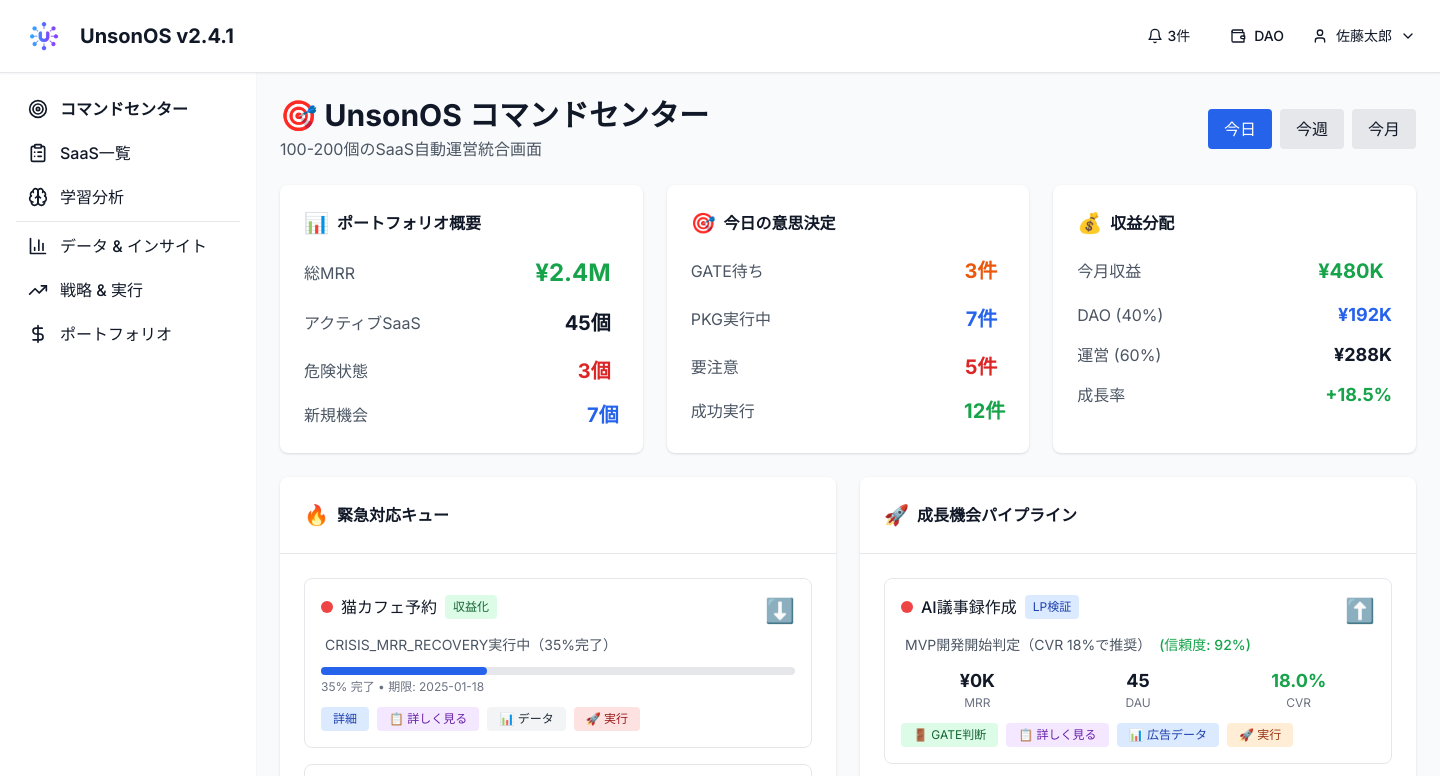
Test: Dashboard › タブ切り替え › DAOタブに切り替えできる
What coordinates should you click on to do the following:
click the button "ポートフォリオ"
I would click on:
 (128, 334)
Its box is [16,314,240,354].
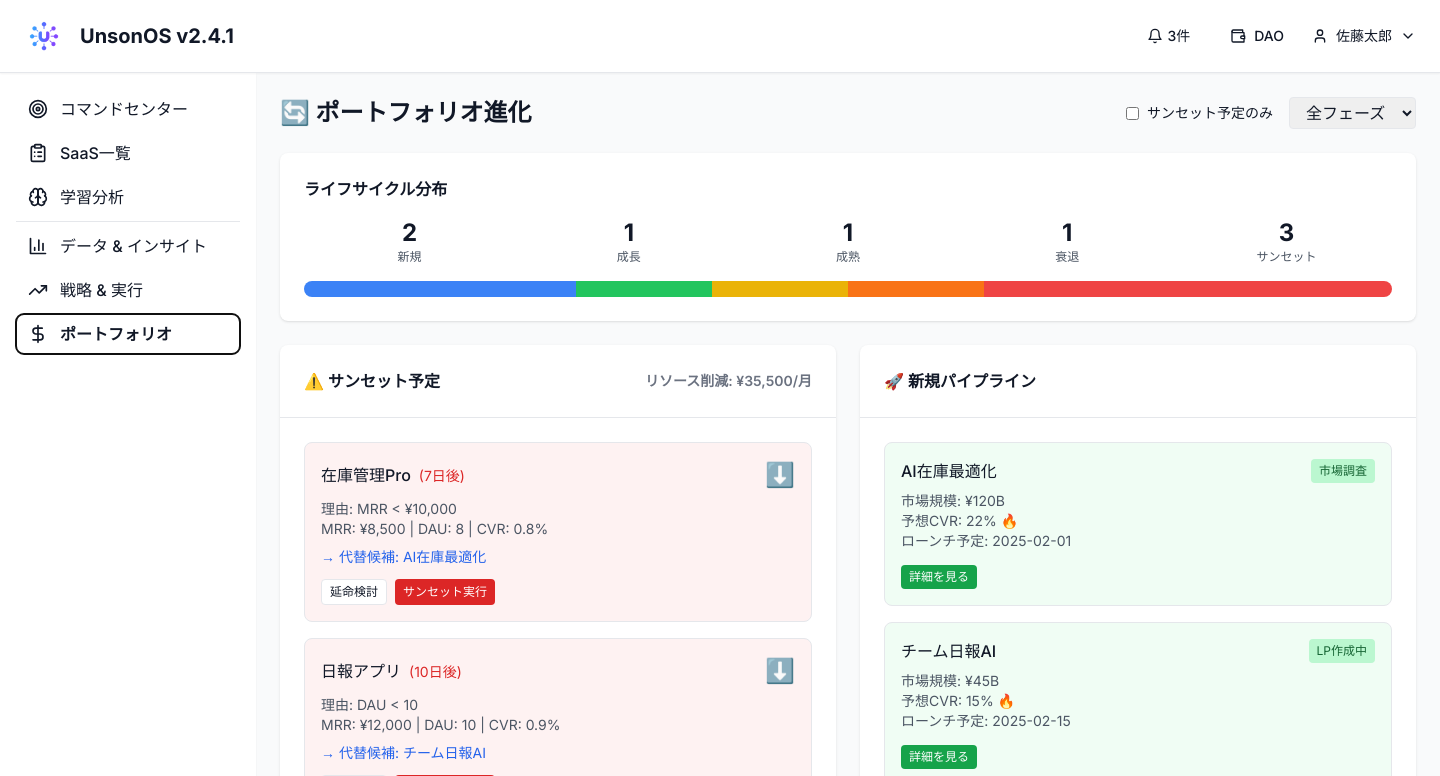
Expected: the heading "🔄 ポートフォリオ進化" is shown, [280,97,532,129]
